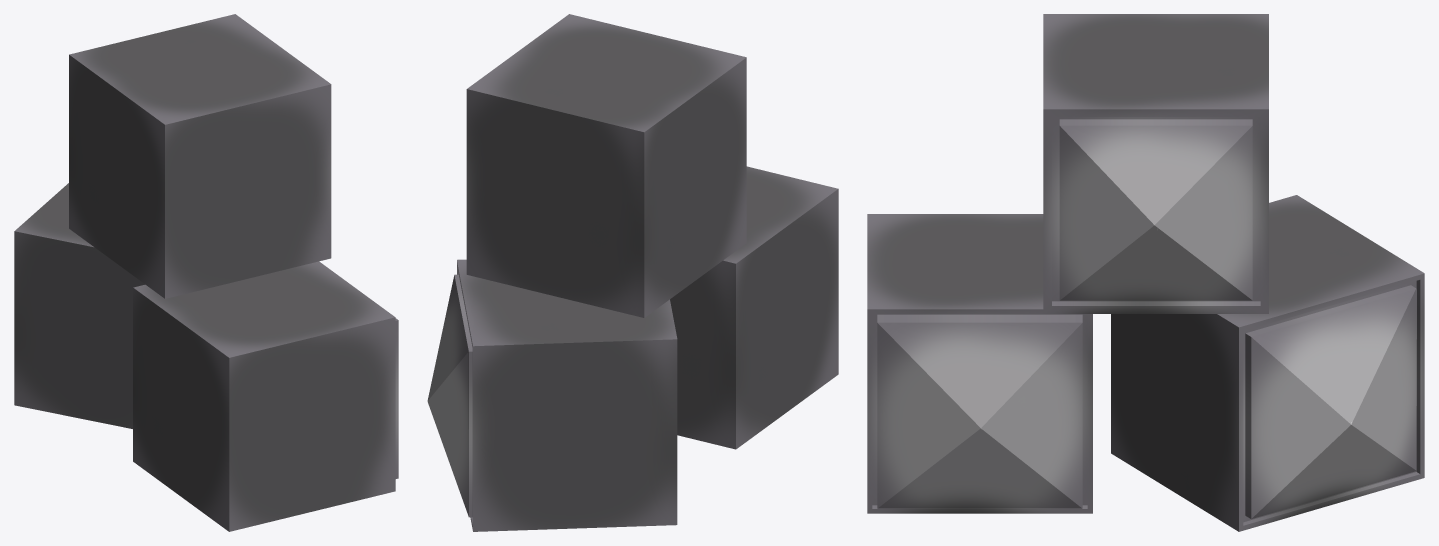
Rendered from Crates.glb.
3 views of the same model, side by side, from view 1: azimuth 30°, elevation 25°; view 2: azimuth 150°, elevation 25°; view 3: azimuth 270°, elevation 25° (orthographic). The views are drawn at different scales.
Parts seen in each view (by area): view 1: Cube.001; view 2: Cube.001; view 3: Cube.001.
Part boxes in pixels (box(x1,y1,x2,y2)): Cube.001: box(14, 14, 398, 531); Cube.001: box(427, 14, 838, 531); Cube.001: box(867, 14, 1424, 531).
Size of the model in its own units: 2.92 by 4.02 by 4.94.
Materials: 1 (1 with a texture image).
